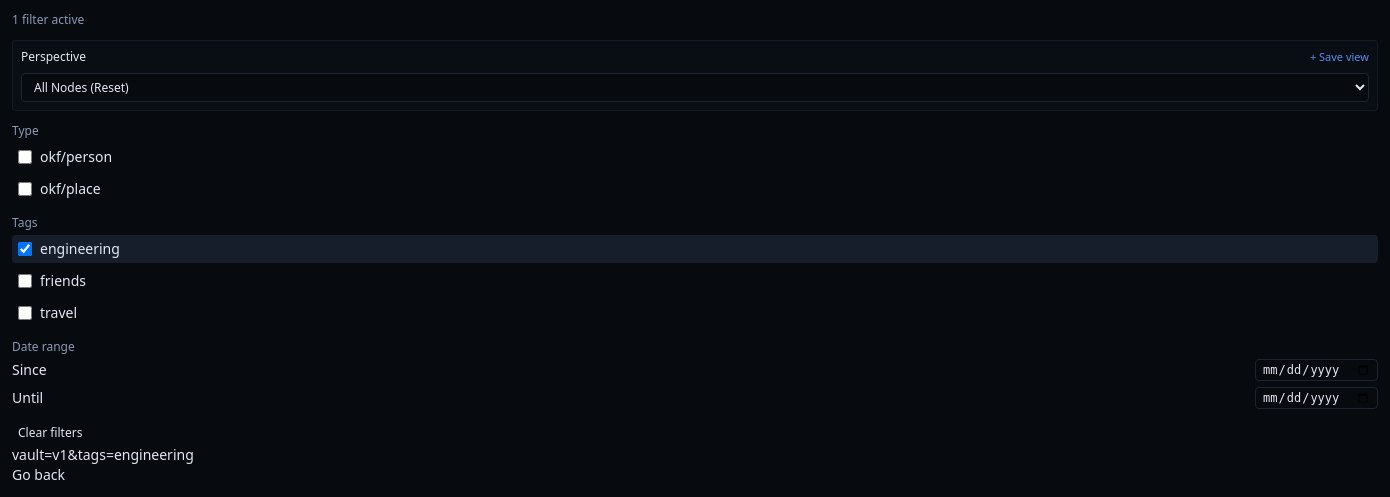
Scenario: GraphFilters › still offers a checkbox for a selected value absent from the loaded nodes, so it can be turned off
Expected: the number of checkboxes labelled "friends" is 1, [18,274,32,288]
Expected: the checkbox labelled "travel" is shown, [18,306,32,320]
Click the checkbox labelled "engineering": {"x": 25, "y": 249} [18,242,32,256]
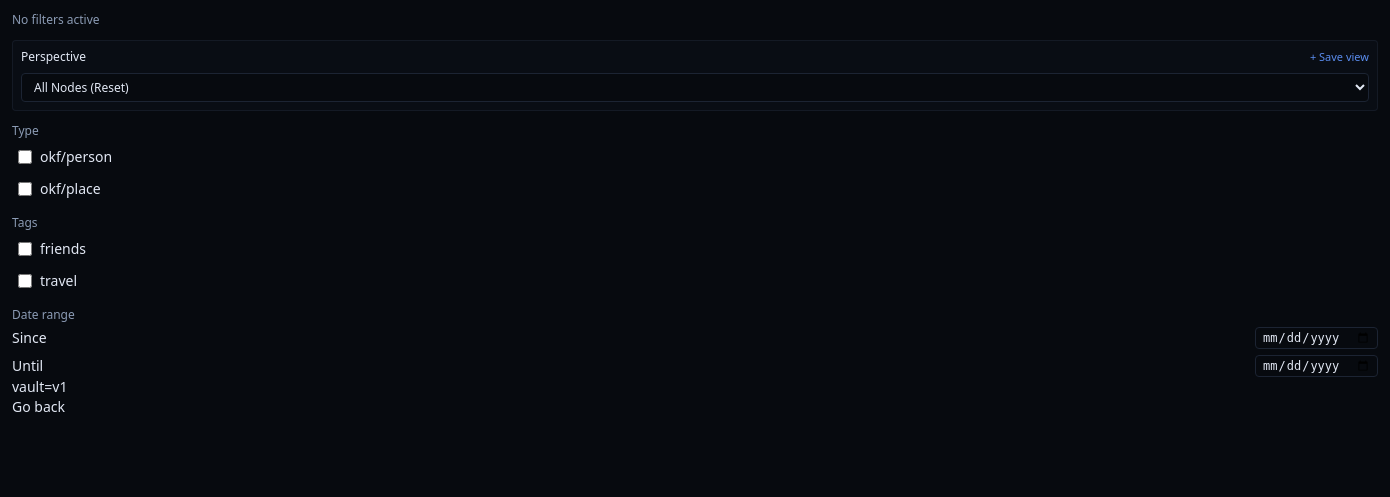
Now the text with test id "params" reads "vault=v1", box [12,377,67,396]
